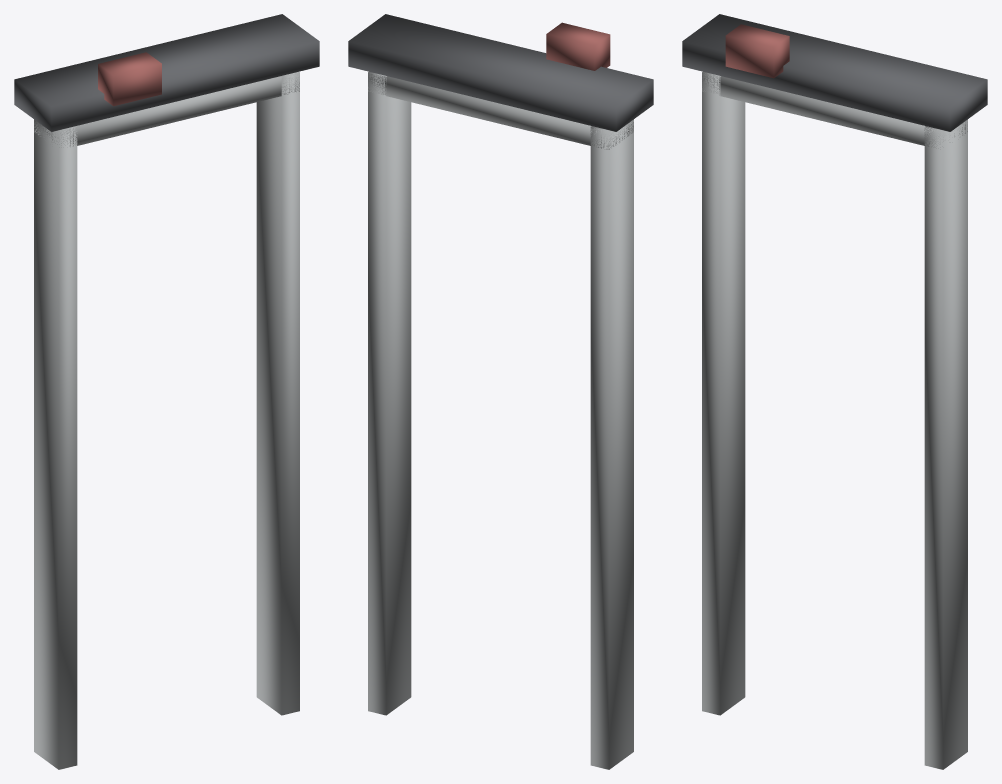
Rendered from doorway_fire_rated_w76_h220_d16.glb.
3 views of the same model, side by side, from view 1: azimuth 30°, elevation 25°; view 2: azimuth 150°, elevation 25°; view 3: azimuth 330°, elevation 25° (orthographic).
Parts seen in each view (by area): view 1: world; view 2: world; view 3: world.
Part boxes in pixels (x1=…): world: x1=14, y1=14, x2=319, y2=769; world: x1=348, y1=14, x2=653, y2=769; world: x1=682, y1=14, x2=987, y2=769.
Bounding box in the file's own units: 0.9968 × 2.47 × 0.3.
